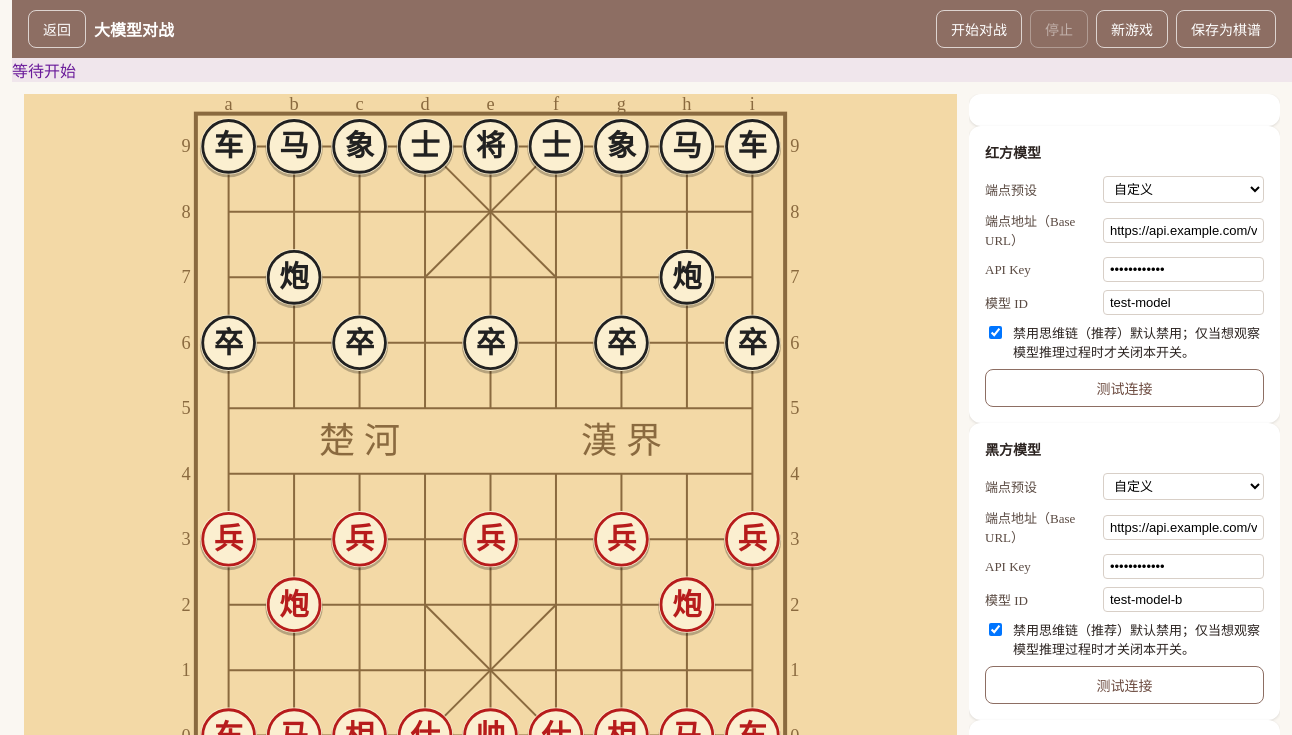
Scenario: 大模型对战页（08 §3.4 / 05 §8.1） › 04 暂停在两手之间生效；继续后恢复对局
Click the button with test id "llm-loop-toggle": (979, 29) [936,10,1022,48]
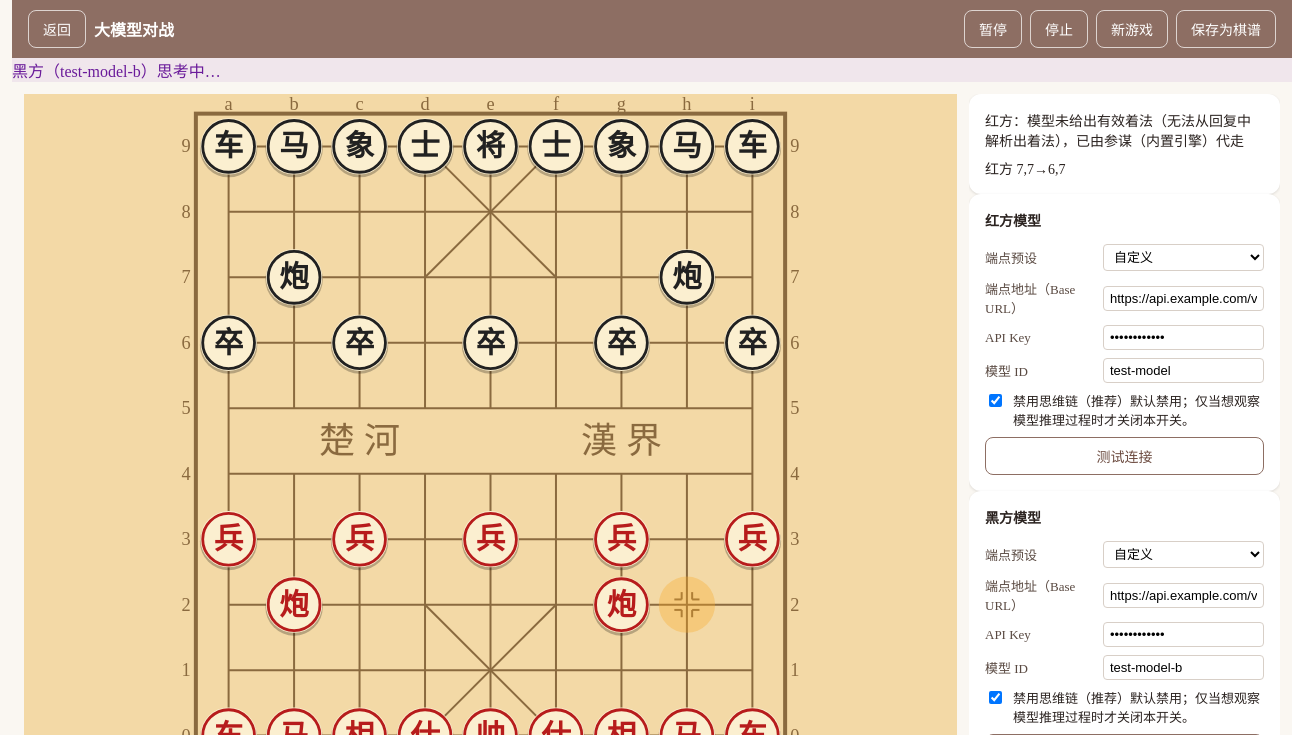
Expected: the text "红方 7,7→6,7" is shown, [985,162,1066,177]
Click the button with test id "llm-loop-toggle": (993, 29) [964,10,1022,48]
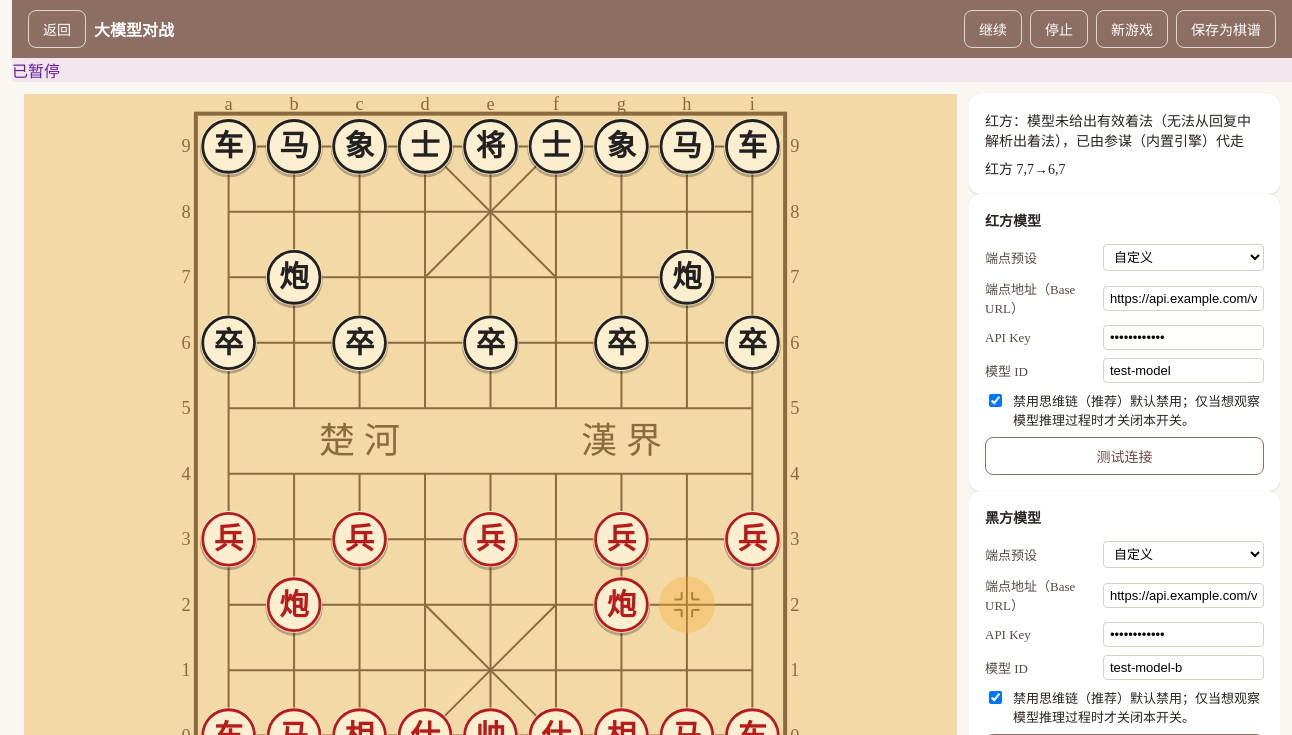
Expected: the message with test id "llm-loop-status" reads "已暂停", [12,63,60,80]
Note: 继续 → 循环恢复（有新手落盘）
Click the button with test id "llm-loop-toggle": (993, 29) [964,10,1022,48]
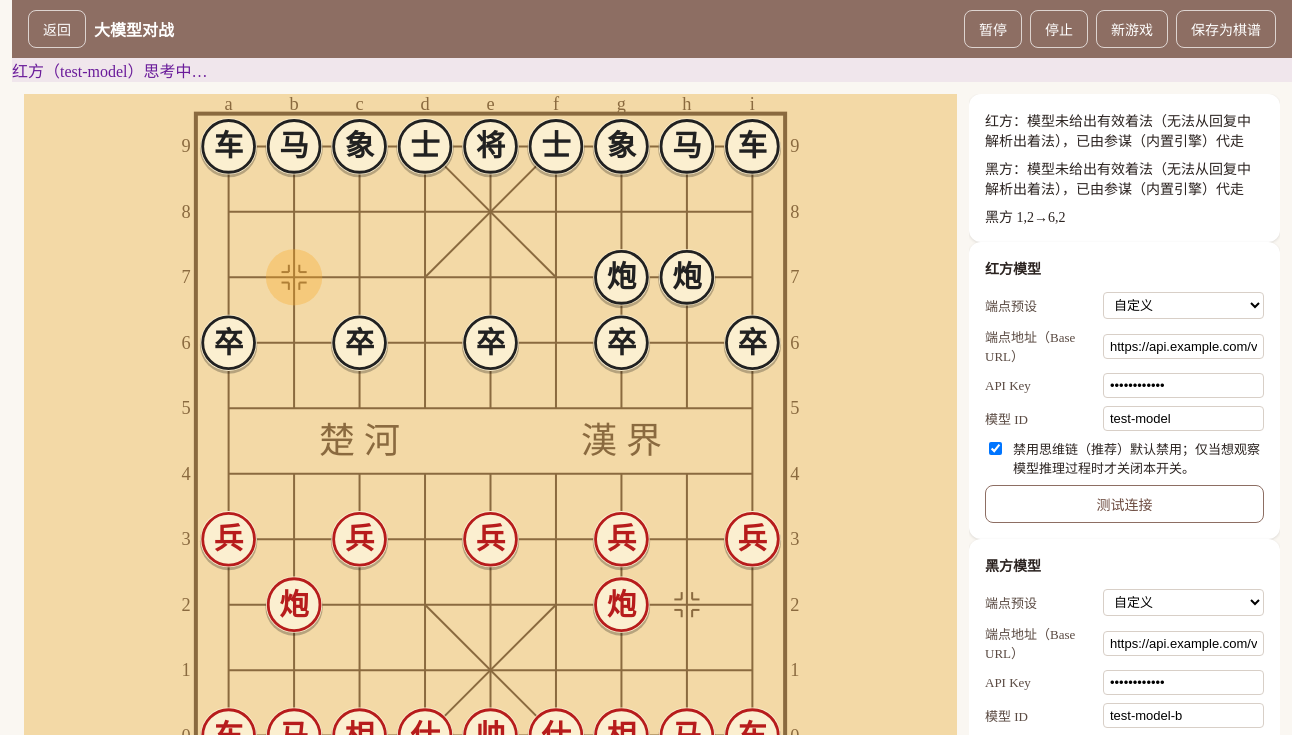
Click the button "停止": (1059, 29) [1030,10,1088,48]
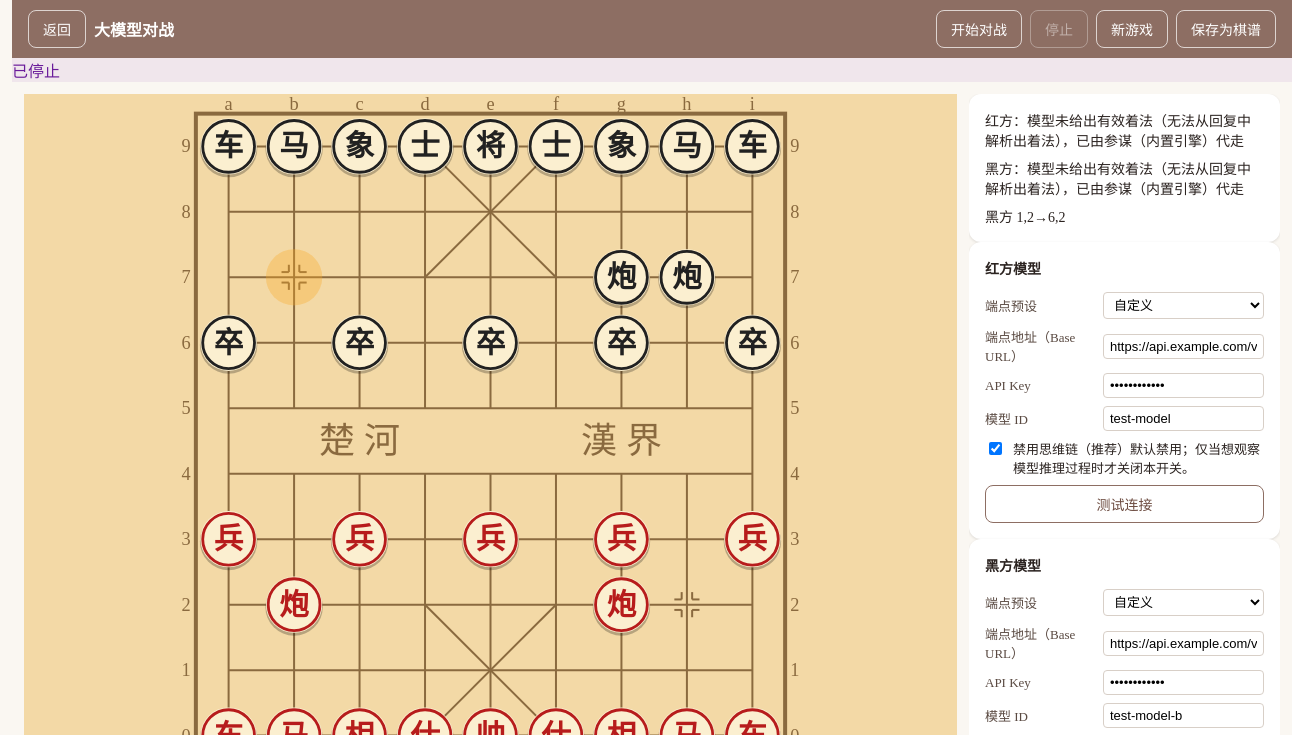
Expected: the message with test id "llm-loop-status" reads "已停止", [12,63,60,80]
